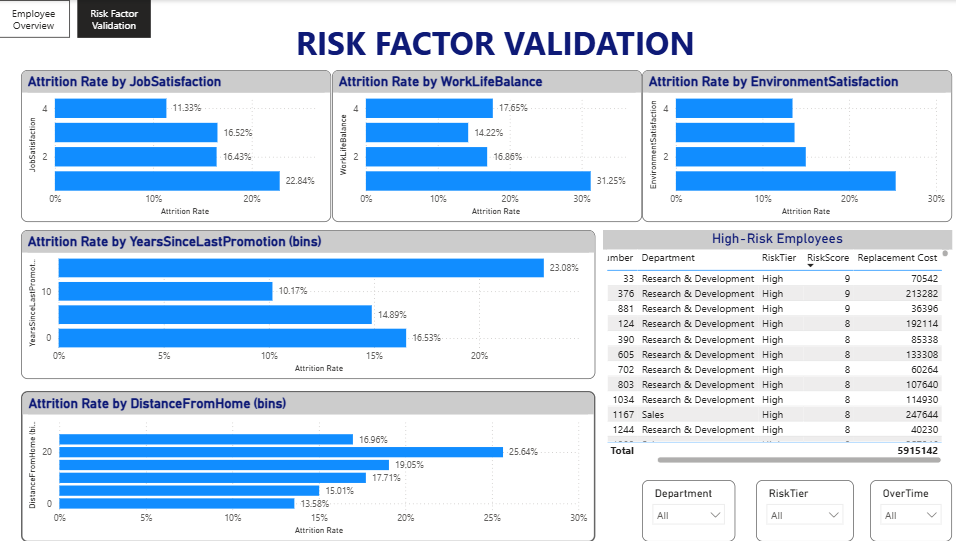

This screenshot's page, from the dashboard's own definition file:
{"tool":"powerbi","page":{"name":"Risk Factor Validation","canvas":[1280,720],"ordinal":1},"visuals":[{"type":"textbox","box":[322.1,22,700.6,71.6],"z":0},{"type":"clusteredBarChart","fields":{"Category":["employee_risk_final.JobSatisfaction"],"Y":["employee_risk_final.Attrition Rate"]},"box":[31.7,93.6,411.5,202.3],"z":1000},{"type":"clusteredBarChart","fields":{"Y":["employee_risk_final.Attrition Rate"],"Category":["employee_risk_final.WorkLifeBalance"]},"box":[444.6,93.6,411.5,202.3],"z":2000},{"type":"clusteredBarChart","fields":{"Category":["employee_risk_final.EnvironmentSatisfaction"],"Y":["employee_risk_final.Attrition Rate"]},"box":[857.5,93.6,411.5,202.3],"z":3000},{"type":"clusteredBarChart","fields":{"Category":["employee_risk_final.DistanceFromHome (bins)"],"Y":["employee_risk_final.Attrition Rate"]},"box":[31.9,519.4,762.5,200.6],"z":4000},{"type":"clusteredBarChart","fields":{"Category":["employee_risk_final.YearsSinceLastPromotion (bins)"],"Y":["employee_risk_final.Attrition Rate"]},"box":[31.9,305.5,762.5,197.9],"z":5000},{"type":"tableEx","title":"High-Risk Employees","fields":{"Values":["employee_risk_final.EmployeeNumber","employee_risk_final.Department","employee_risk_final.RiskTier","employee_risk_final.RiskScore","employee_risk_final.Replacement Cost"]},"box":[805,305.5,463.6,314.8],"z":6000},{"type":"slicer","fields":{"Values":["employee_risk_final.Department"]},"box":[856.7,637.9,124.4,81.5],"z":7000},{"type":"slicer","fields":{"Values":["employee_risk_final.RiskTier"]},"box":[1008.3,637.9,130.1,81.5],"z":8000},{"type":"slicer","fields":{"Values":["employee_risk_final.OverTime"]},"box":[1159.9,637.9,108.7,81.5],"z":9000},{"type":"pageNavigator","box":[0,0,205.9,50.5],"z":10000}]}

Visuals, with their boxes in screenshot pixels (x1, y1, x2, y2), scaled from the page's 1280x720 canvas onto the 956x541 screenshot:
textbox: pyautogui.locateOnScreen(241, 17, 764, 70)
clusteredBarChart - employee_risk_final.JobSatisfaction x employee_risk_final.Attrition Rate: pyautogui.locateOnScreen(24, 70, 331, 222)
clusteredBarChart - employee_risk_final.Attrition Rate x employee_risk_final.WorkLifeBalance: pyautogui.locateOnScreen(332, 70, 639, 222)
clusteredBarChart - employee_risk_final.EnvironmentSatisfaction x employee_risk_final.Attrition Rate: pyautogui.locateOnScreen(640, 70, 948, 222)
clusteredBarChart - employee_risk_final.DistanceFromHome (bins) x employee_risk_final.Attrition Rate: pyautogui.locateOnScreen(24, 390, 593, 540)
clusteredBarChart - employee_risk_final.YearsSinceLastPromotion (bins) x employee_risk_final.Attrition Rate: pyautogui.locateOnScreen(24, 230, 593, 378)
"High-Risk Employees" tableEx: pyautogui.locateOnScreen(601, 230, 947, 466)
slicer - employee_risk_final.Department: pyautogui.locateOnScreen(640, 479, 733, 540)
slicer - employee_risk_final.RiskTier: pyautogui.locateOnScreen(753, 479, 850, 540)
slicer - employee_risk_final.OverTime: pyautogui.locateOnScreen(866, 479, 947, 540)
pageNavigator: pyautogui.locateOnScreen(0, 0, 154, 38)
